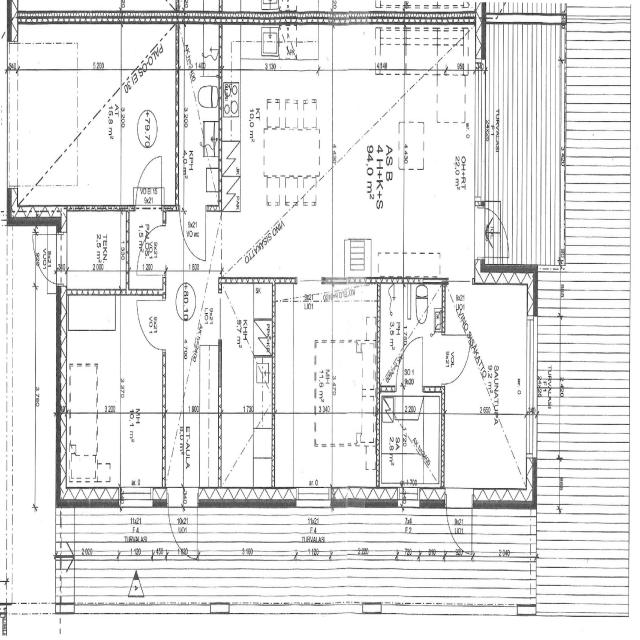door: (168, 487, 197, 563), (446, 487, 472, 557), (475, 206, 511, 256), (30, 234, 66, 283), (136, 300, 166, 350), (136, 224, 166, 274), (136, 156, 162, 211), (396, 337, 422, 392), (442, 335, 470, 384), (180, 206, 205, 260)
